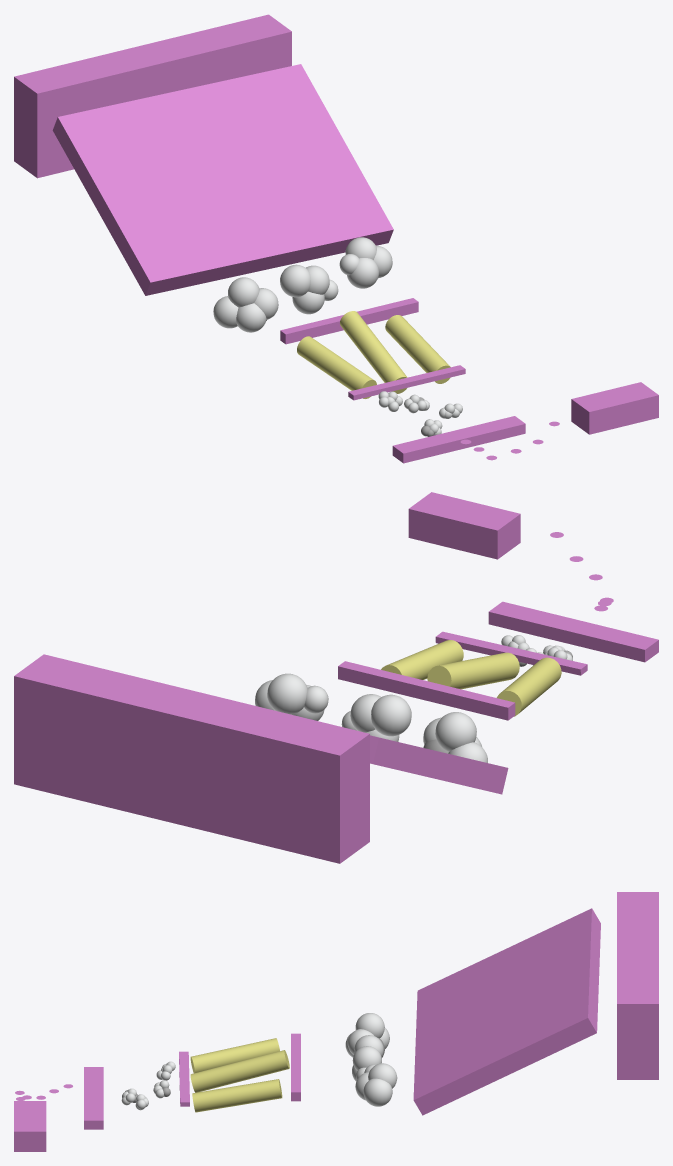
The model's file is level.fbx.
3 renders of one model, top to bottom at view 1: azimuth 30°, elevation 25°; view 2: azimuth 150°, elevation 25°; view 3: azimuth 270°, elevation 25°, orthographic. The views are drawn at different scales.
Parts seen in each view (by area): view 1: pCube4, pCube5, pCube6, pCube1, pCylinder2, pCube3, pCylinder1, pCylinder3, pCube2, pSphere38, pSphere35, pSphere42 (+1 smaller); view 2: pCube5, pCube6, pCube1, pCube4, pCube3, pCylinder2, pCylinder1, pCylinder3, pCube2, pSphere38, pSphere43, pSphere35 (+2 smaller); view 3: pCube4, pCube5, pCylinder2, pCylinder3, pCube6, pCylinder1, pCube1, pCube3, pSphere41, pCube2, pSphere33, pSphere35 (+1 smaller).
Boxes of the visible parts, x1,y1,x2,y2 form: pCube4: [52, 64, 393, 295]; pCube5: [14, 14, 291, 178]; pCube6: [571, 382, 658, 434]; pCube1: [392, 416, 525, 463]; pCylinder2: [340, 311, 407, 393]; pCube3: [280, 298, 418, 344]; pCylinder1: [297, 336, 376, 398]; pCylinder3: [385, 315, 450, 383]; pCube2: [348, 365, 465, 400]; pSphere38: [280, 264, 310, 297]; pSphere35: [228, 277, 259, 307]; pSphere42: [347, 258, 378, 288]; pCube5: [14, 654, 369, 863]; pCube6: [408, 492, 520, 559]; pCube1: [488, 601, 658, 662]; pCube4: [370, 735, 508, 794]; pCube3: [338, 661, 515, 720]; pCylinder2: [427, 652, 519, 689]; pCylinder1: [496, 657, 561, 716]; pCylinder3: [381, 640, 463, 679]; pCube2: [435, 631, 587, 675]; pSphere38: [371, 694, 411, 736]; pSphere43: [267, 673, 307, 714]; pSphere35: [435, 712, 476, 751]; pCube4: [413, 908, 600, 1115]; pCube5: [617, 892, 658, 1079]; pCylinder2: [190, 1050, 289, 1092]; pCylinder3: [192, 1079, 282, 1112]; pCube6: [14, 1101, 46, 1151]; pCylinder1: [190, 1038, 279, 1073]; pCube1: [84, 1067, 103, 1129]; pCube3: [291, 1033, 300, 1101]; pSphere41: [363, 1078, 392, 1106]; pCube2: [179, 1051, 189, 1106]; pSphere33: [352, 1046, 381, 1070]; pSphere35: [355, 1013, 384, 1038].
Size of the model in its own units: 60.97 by 35.49 by 132.
